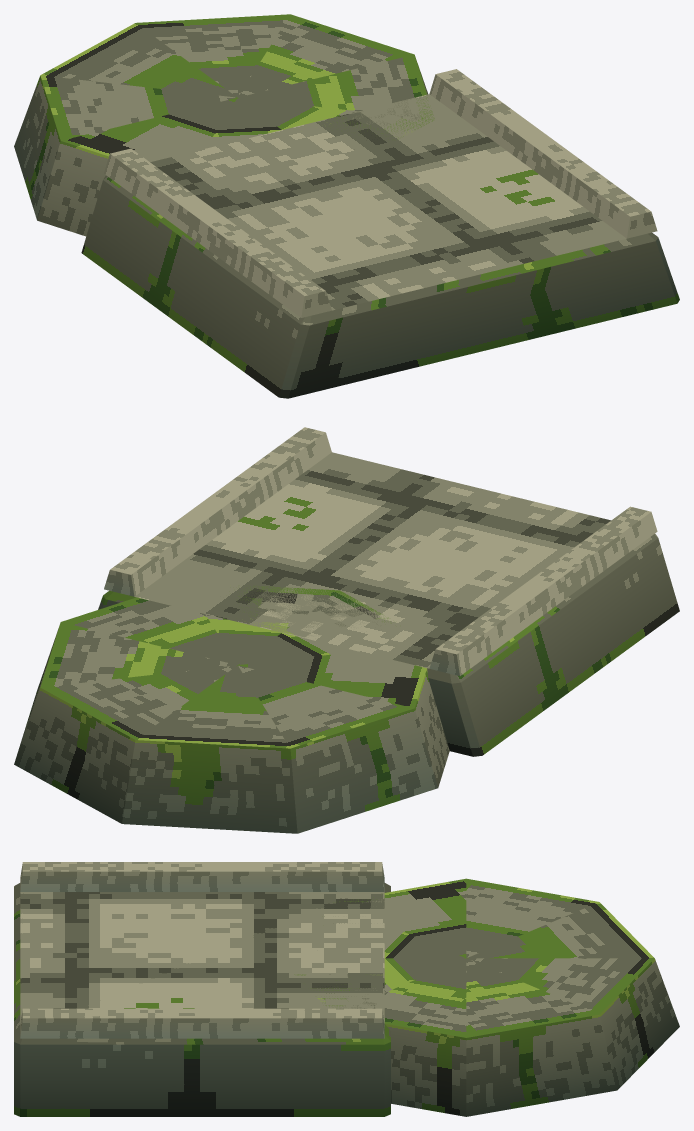
Rendered from land.causeway__end.glb.
3 views of the same model, one above another, from view 1: azimuth 30°, elevation 25°; view 2: azimuth 150°, elevation 25°; view 3: azimuth 270°, elevation 25° (orthographic). The views are drawn at different scales.
Parts seen in each view (by area): view 1: kit_deck, kit_terminus, kit_kerbs; view 2: kit_terminus, kit_deck, kit_kerbs; view 3: kit_deck, kit_terminus, kit_kerbs.
Part boxes in pixels (left/top/right/bottom): kit_deck: left=81, top=94, right=679, bottom=398; kit_terminus: left=14, top=14, right=434, bottom=236; kit_kerbs: left=104, top=69, right=657, bottom=317; kit_terminus: left=14, top=585, right=449, bottom=833; kit_deck: left=98, top=452, right=679, bottom=756; kit_kerbs: left=104, top=427, right=657, bottom=675; kit_deck: left=14, top=883, right=390, bottom=1116; kit_terminus: left=294, top=878, right=679, bottom=1116; kit_kerbs: left=20, top=862, right=384, bottom=1038.
Bounding box in the file's own units: 3.4 × 0.76 × 5.3.
3 materials, 3 textured.
